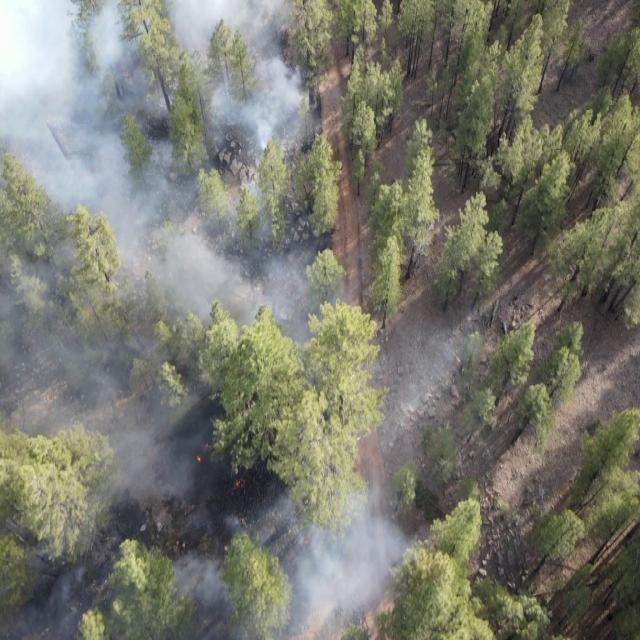fire: (230, 478, 244, 489), (195, 452, 202, 466), (204, 443, 210, 449)
smoke: (0, 241, 462, 449), (0, 0, 320, 242), (36, 447, 411, 640)
